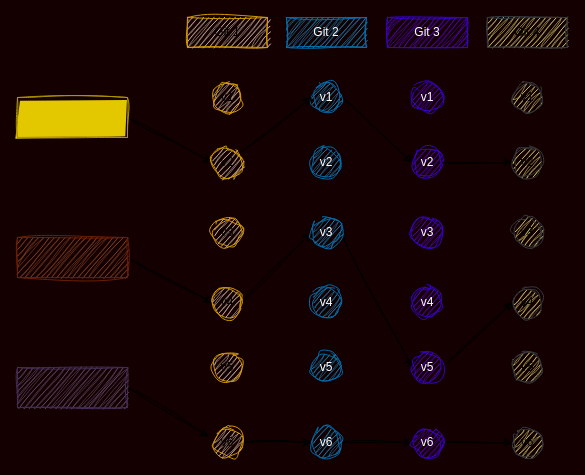
Some shapes in this 585 by 475 pixel diagram are drawn without their labels. Here are the shapes that lost their labels. From the top down, the box of each, then its label:
(16, 96, 128, 138): Repo Manifest 1
(16, 236, 128, 278): Repo Manifest 2
(16, 366, 128, 408): Repo Manifest 3
